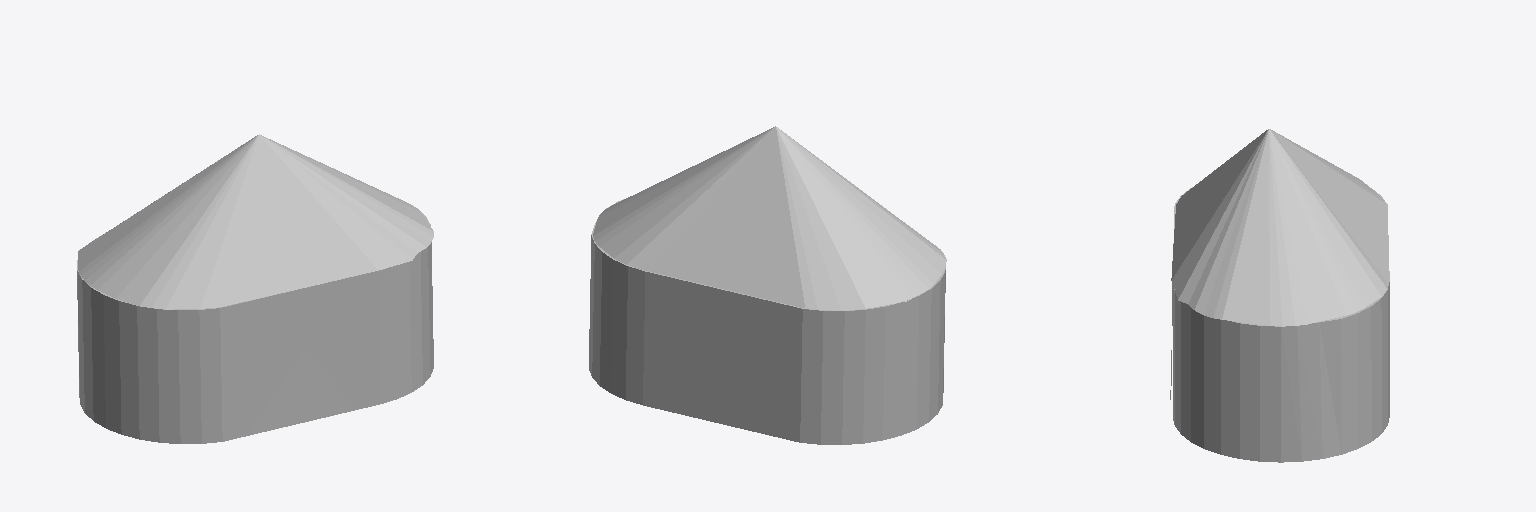
File: Bigtop.obj
The picture shows the model from 3 angles: view 1: azimuth 30°, elevation 25°; view 2: azimuth 150°, elevation 25°; view 3: azimuth 270°, elevation 25°; orthographic projection.
Parts seen in each view (by area): view 1: Cylinder; view 2: Cylinder; view 3: Cylinder.
Part boxes in pixels (left/top/right/bottom): Cylinder: left=77, top=134, right=433, bottom=443; Cylinder: left=589, top=126, right=946, bottom=444; Cylinder: left=1170, top=129, right=1389, bottom=462.
Bounding box in the file's own units: 11.92 × 8.76 × 6.9.